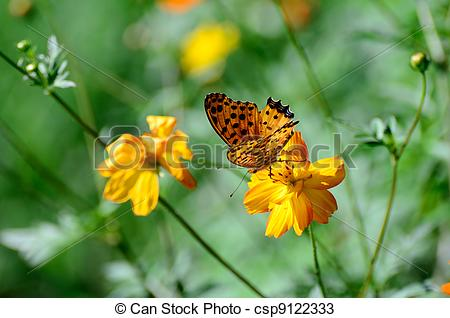Argyreus hyperbius: (199, 87, 303, 197)
butterfly: (201, 89, 305, 199)
